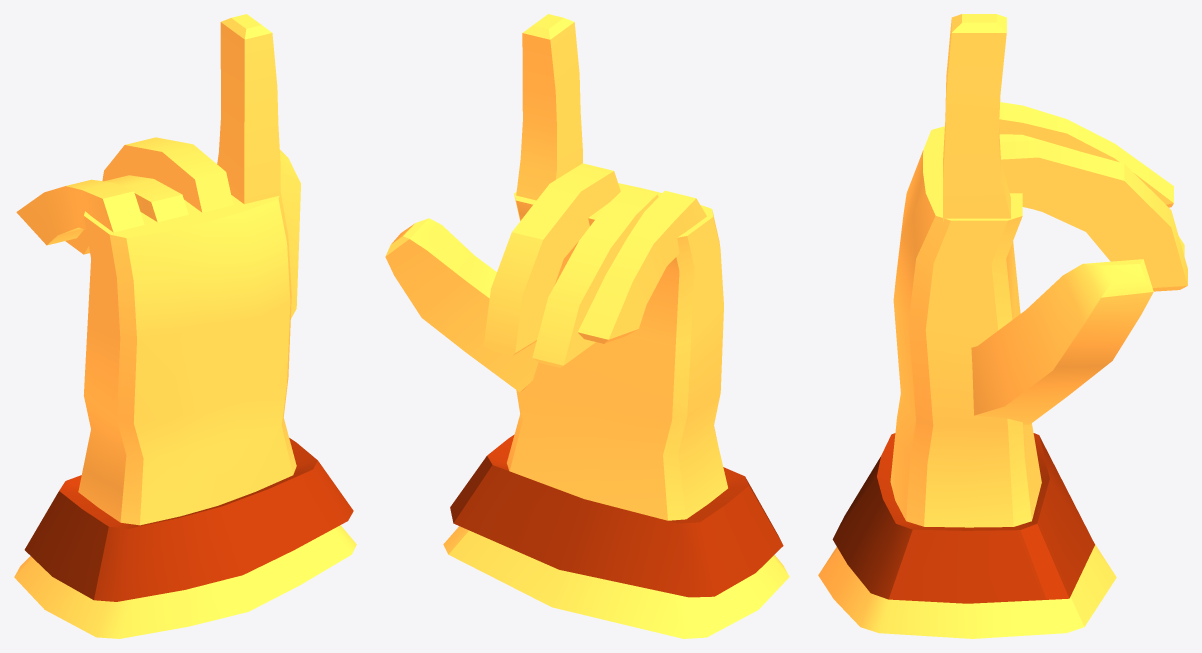
The model's file is D_Pointer.fbx.
3 renders of one model, left to right at view 1: azimuth 30°, elevation 25°; view 2: azimuth 150°, elevation 25°; view 3: azimuth 270°, elevation 25°, orthographic. The views are drawn at different scales.
Parts seen in each view (by area): view 1: Cube.001, Cube.002, Cube.003, Cube.005, Cube.004, Cube.006; view 2: Cube.001, Cube.003, Cube.006, Cube.002, Cube.005, Cube.004; view 3: Cube.001, Cube.006, Cube.003, Cube.002, Cube.005, Cube.004.
Boxes of the visible parts, <box> form: Cube.001: <box>14,193,356,638</box>; Cube.002: <box>217,14,280,204</box>; Cube.003: <box>102,137,233,212</box>; Cube.005: <box>16,179,144,245</box>; Cube.004: <box>65,175,188,254</box>; Cube.006: <box>280,150,300,318</box>; Cube.001: <box>443,183,789,638</box>; Cube.003: <box>483,163,620,355</box>; Cube.006: <box>385,218,538,392</box>; Cube.002: <box>516,14,582,200</box>; Cube.005: <box>578,190,706,343</box>; Cube.004: <box>532,187,658,367</box>; Cube.001: <box>818,126,1116,638</box>; Cube.006: <box>971,259,1153,424</box>; Cube.003: <box>1000,140,1187,291</box>; Cube.002: <box>943,14,1010,221</box>; Cube.005: <box>999,102,1173,207</box>; Cube.004: <box>999,134,1184,260</box>.
Bounding box in the file's own units: 77.31 × 130 × 71.1.
